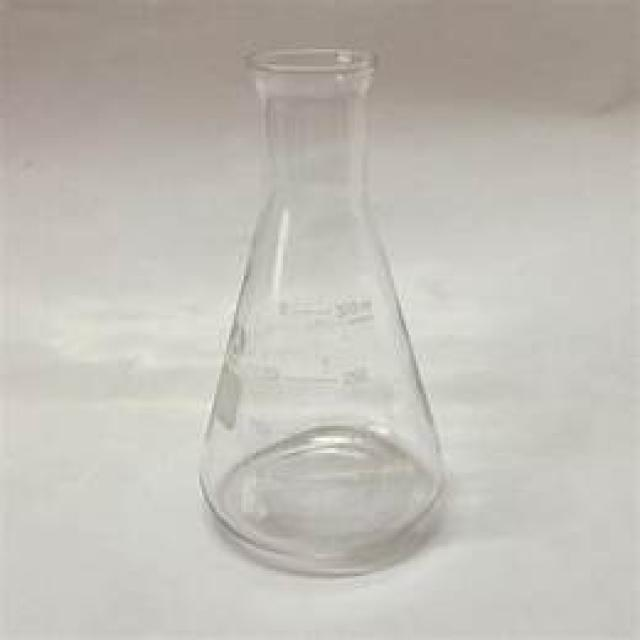Titrarion: (195, 43, 453, 572)
